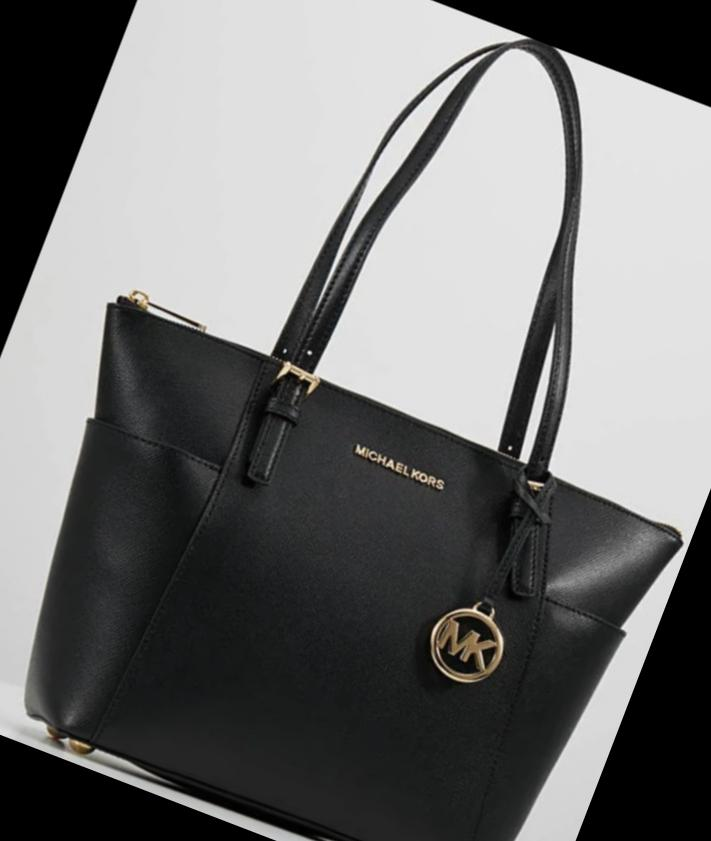MICHAEL-KORS: (351, 441, 447, 490)
